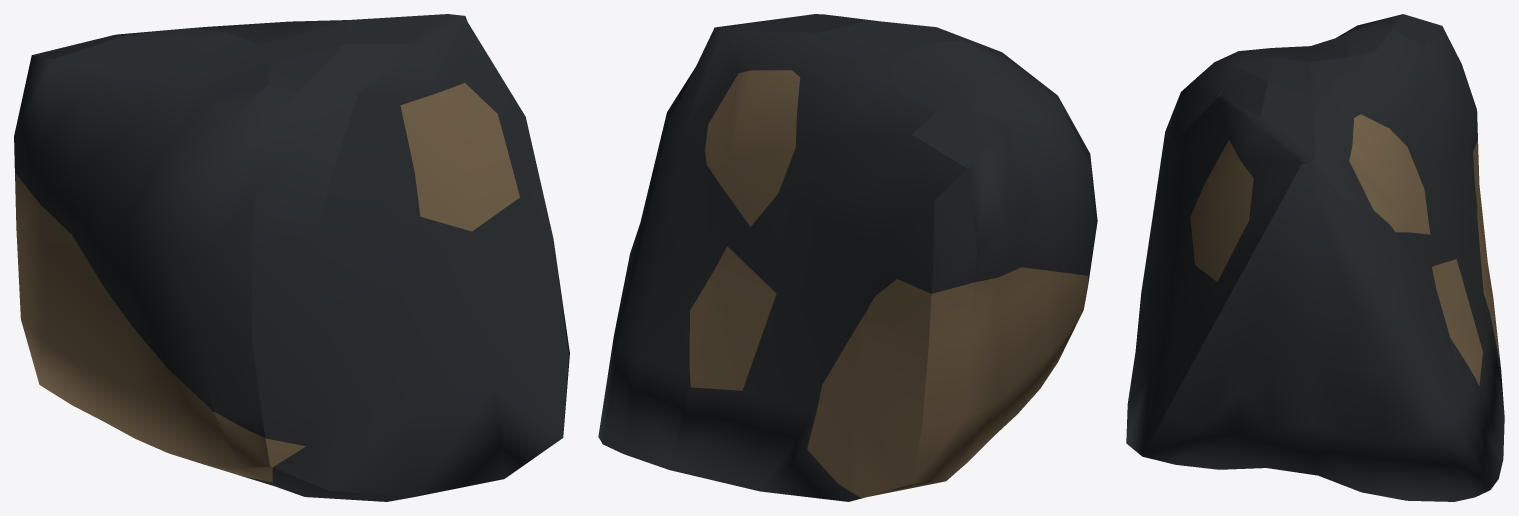
Rendered from Rock small 2 DQ.fbx.
The picture shows the model from 3 angles, left to right: view 1: azimuth 30°, elevation 25°; view 2: azimuth 150°, elevation 25°; view 3: azimuth 270°, elevation 25°; orthographic projection. The views are drawn at different scales.
Parts seen in each view (by area): view 1: rock.005; view 2: rock.005; view 3: rock.005.
Boxes of the visible parts, x1=… form: rock.005: x1=14, y1=14, x2=569, y2=501; rock.005: x1=598, y1=14, x2=1097, y2=501; rock.005: x1=1126, y1=14, x2=1504, y2=501.
Bounding box in the file's own units: 47.26 × 45.53 × 44.11.
